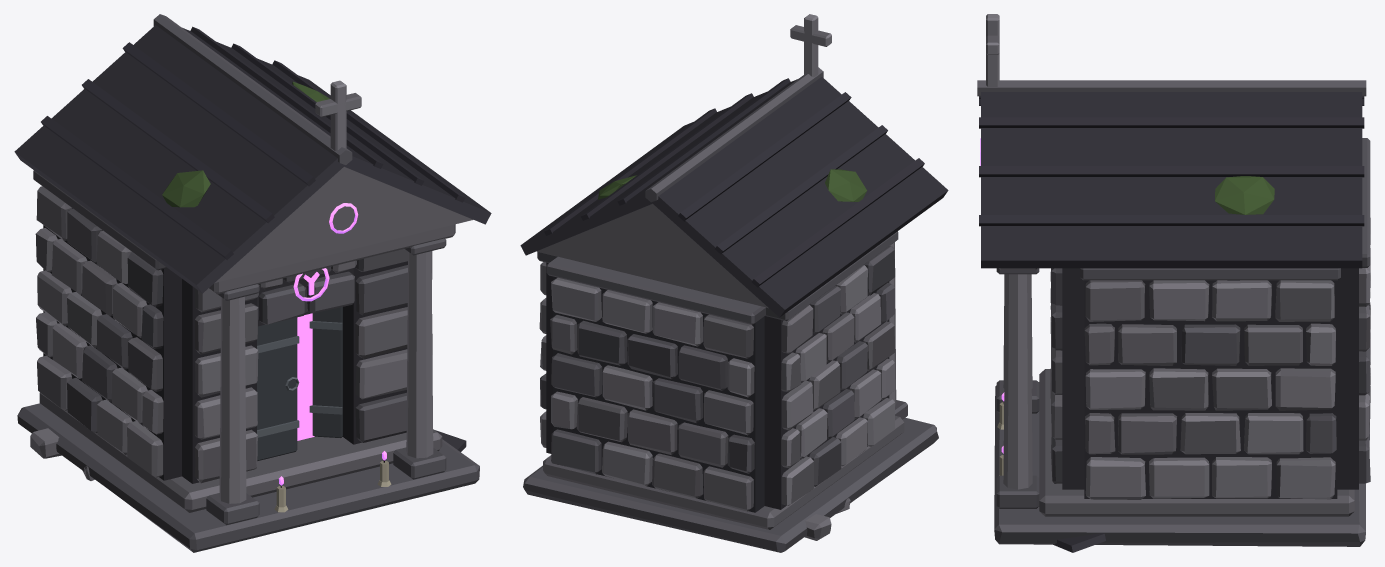
File: crypt.glb
3 renders of one model, left to right at view 1: azimuth 30°, elevation 25°; view 2: azimuth 150°, elevation 25°; view 3: azimuth 270°, elevation 25°, orthographic. The views are drawn at different scales.
Visible parts, largest first — view 1: Crypt; view 2: Crypt; view 3: Crypt.
Part boxes in pixels (x1,y1,x2,y2): Crypt: (14, 14, 491, 552); Crypt: (520, 14, 948, 552); Crypt: (977, 14, 1370, 552).
Size of the model in its own units: 2.03 by 2.62 by 2.02.
